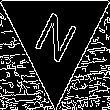N_SW: (29, 4, 81, 69)
